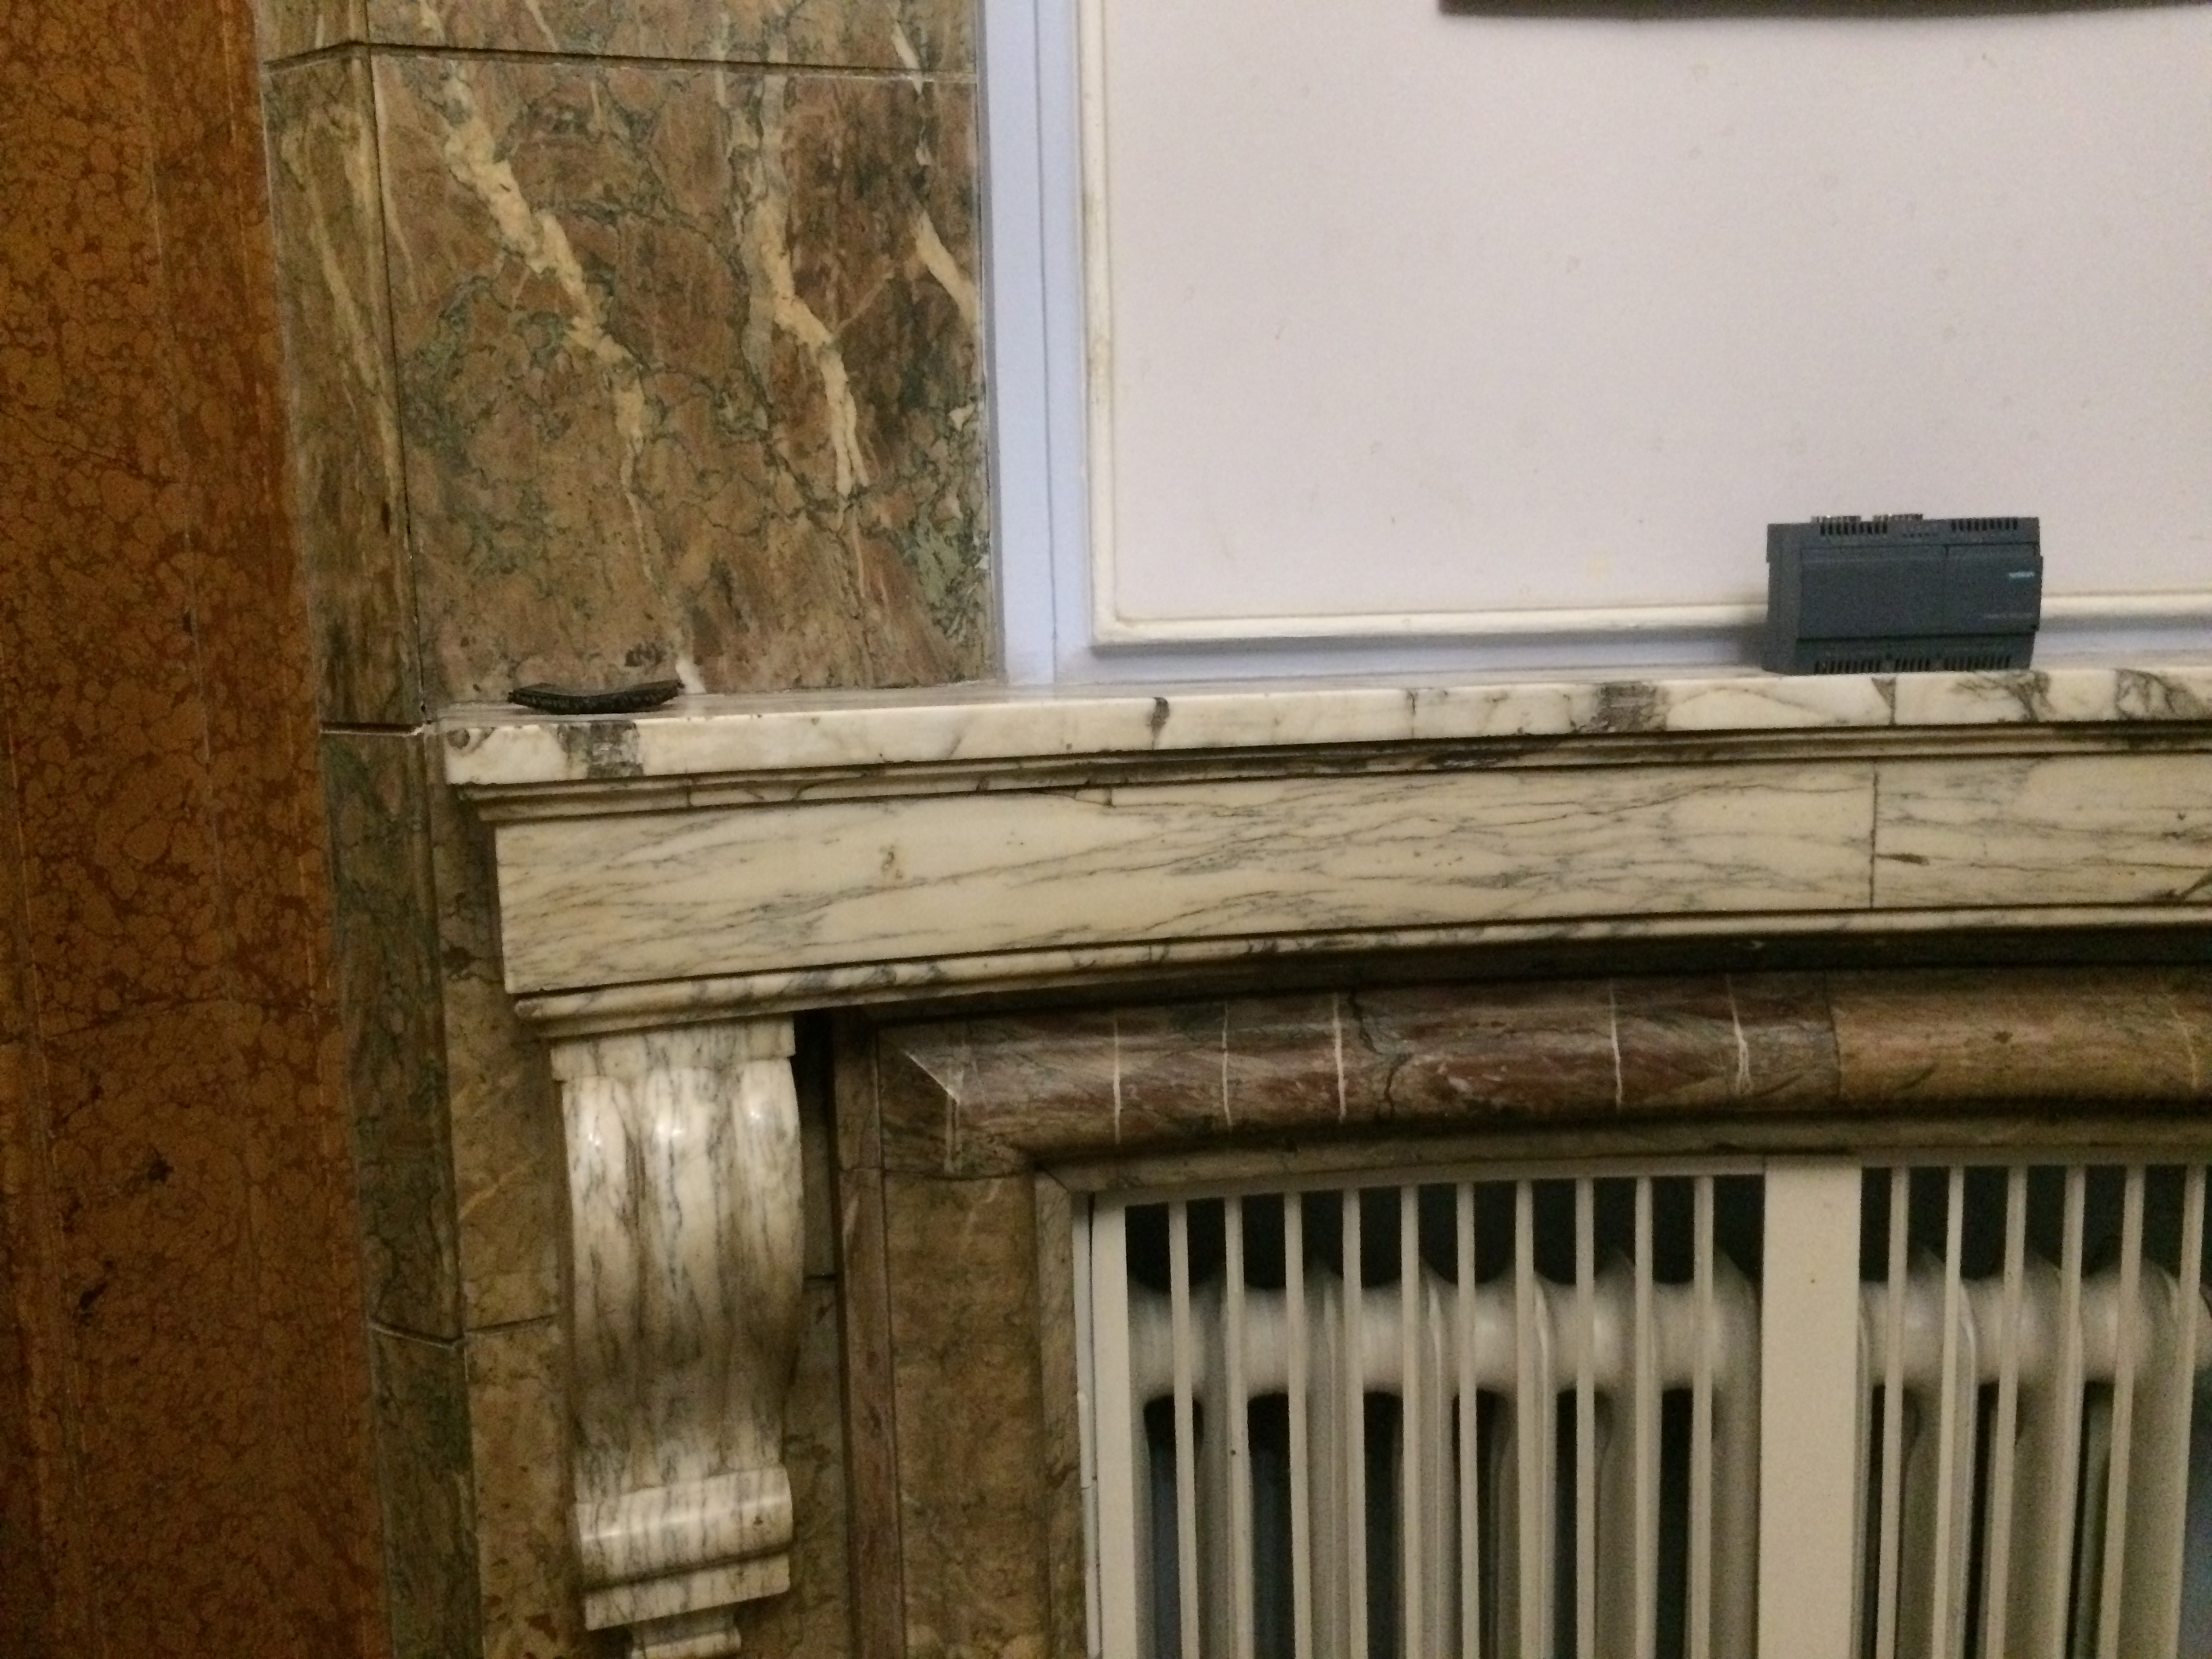iot2000: (1761, 509, 2047, 680)
